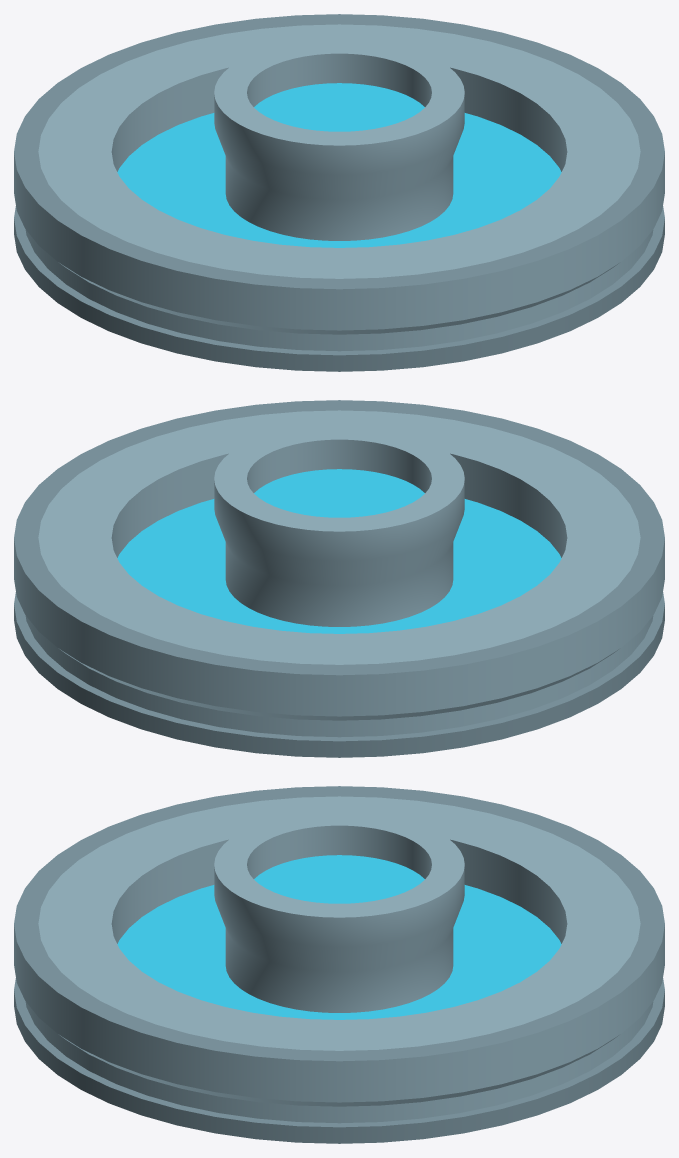
File: fountainRoundDetail.dae
3 views of the same model, one above another, from view 1: azimuth 30°, elevation 25°; view 2: azimuth 150°, elevation 25°; view 3: azimuth 270°, elevation 25° (orthographic).
Parts seen in each view (by area): view 1: fountainRoundDetail; view 2: fountainRoundDetail; view 3: fountainRoundDetail.
Part boxes in pixels (x1,y1,x2,y2): fountainRoundDetail: (14, 14, 664, 371); fountainRoundDetail: (14, 400, 664, 757); fountainRoundDetail: (14, 786, 664, 1143).
Size of the model in its own units: 2 by 0.48 by 2.
